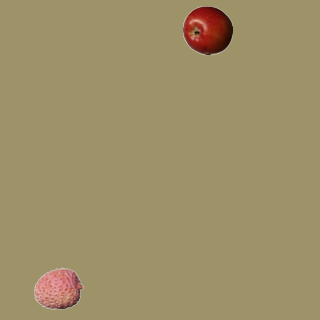Apple Braeburn: (182, 5, 232, 55)
Lychee: (33, 263, 83, 313)
